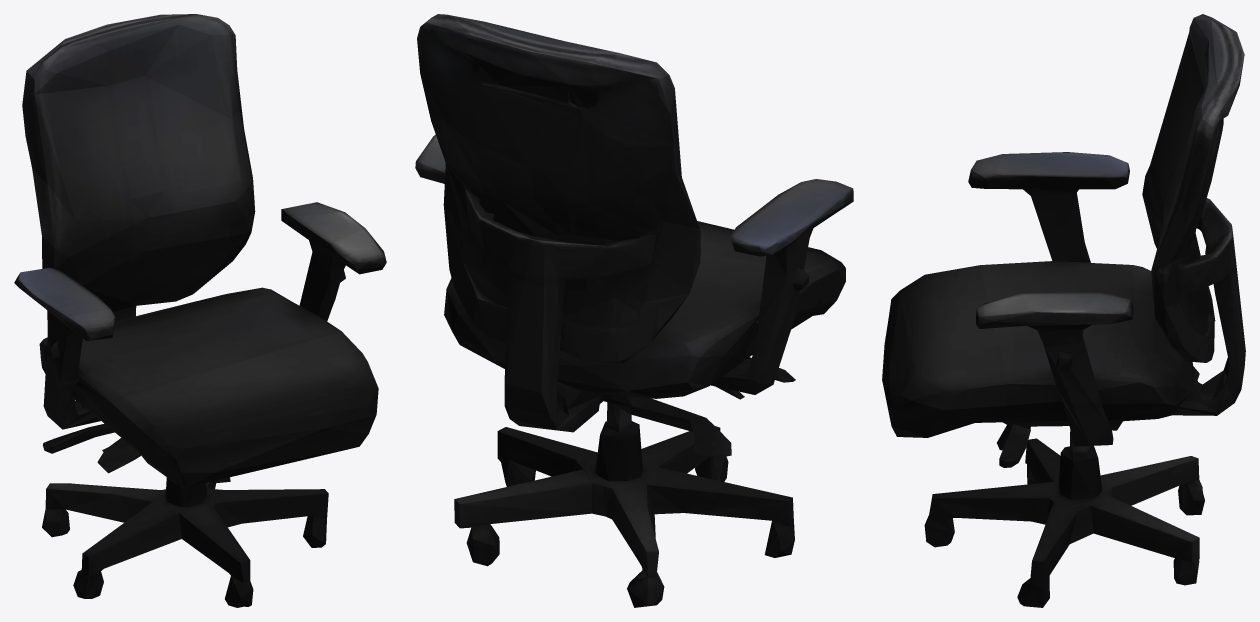
File: office-chair.glb
3 views of the same model, side by side, from view 1: azimuth 30°, elevation 25°; view 2: azimuth 150°, elevation 25°; view 3: azimuth 270°, elevation 25° (orthographic). The views are drawn at different scales.
Visible parts, largest first — view 1: geometry_0; view 2: geometry_0; view 3: geometry_0.
Part boxes in pixels (x1,y1,x2,y2): geometry_0: [14, 14, 386, 607]; geometry_0: [415, 14, 853, 607]; geometry_0: [882, 14, 1245, 607].
Size of the model in its own units: 0.6984 by 0.9968 by 0.66.
1 material, 1 textured.
